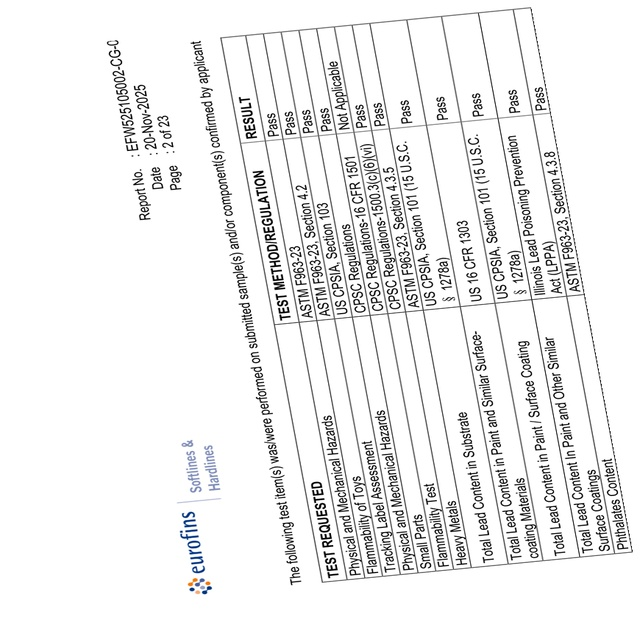eurofins: (176, 508, 215, 600)
